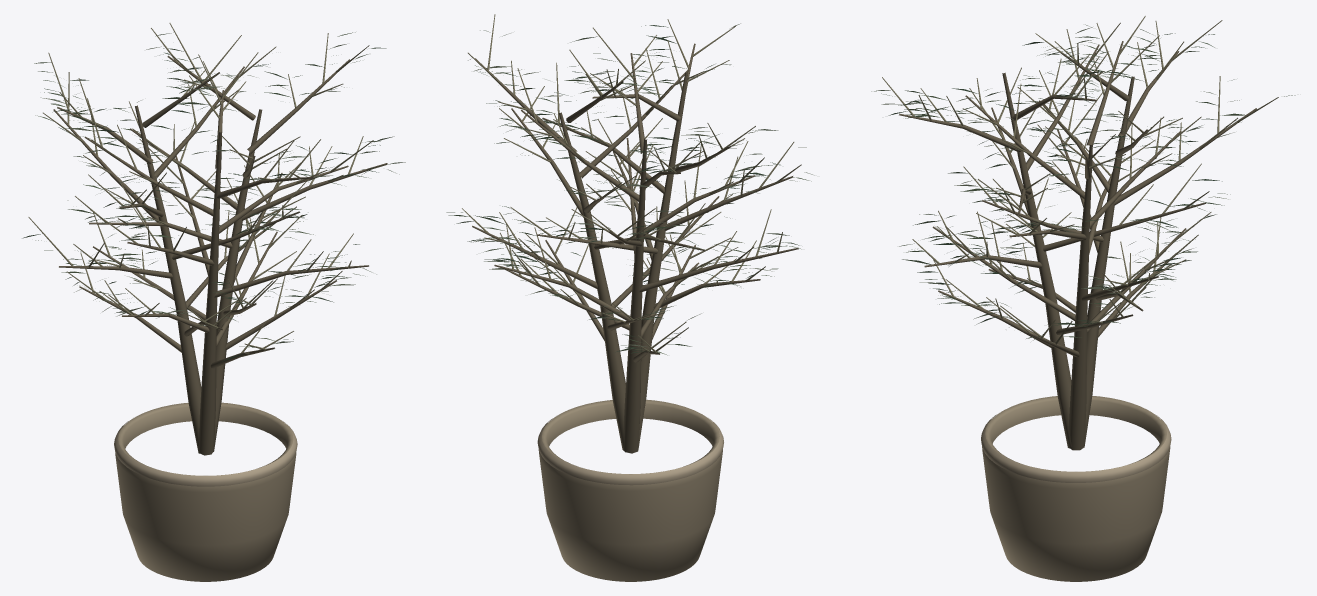
The model's file is court-planter.glb.
3 renders of one model, left to right at view 1: azimuth 30°, elevation 25°; view 2: azimuth 150°, elevation 25°; view 3: azimuth 270°, elevation 25°, orthographic. The views are drawn at different scales.
Visible parts, largest first — view 1: Surface; view 2: Surface; view 3: Surface.
Part boxes in pixels (x1,y1,x2,y2): Surface: (22,23,405,581); Surface: (446,14,814,581); Surface: (871,16,1295,581).
Bounding box in the file's own units: 1.56 × 2.15 × 1.64.
